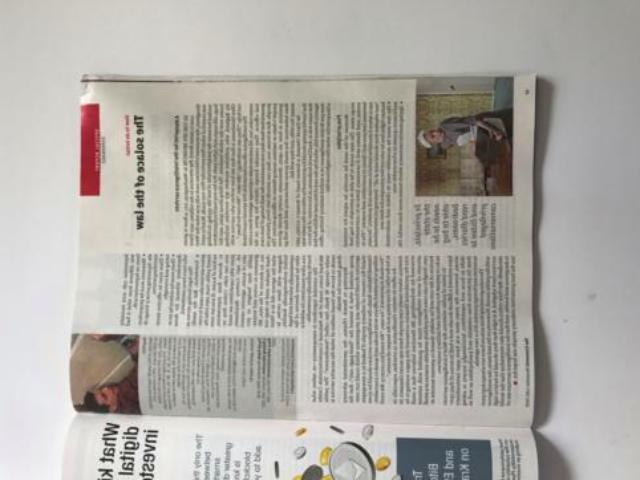cardboard paper: (69, 78, 532, 427), (62, 416, 535, 480)
